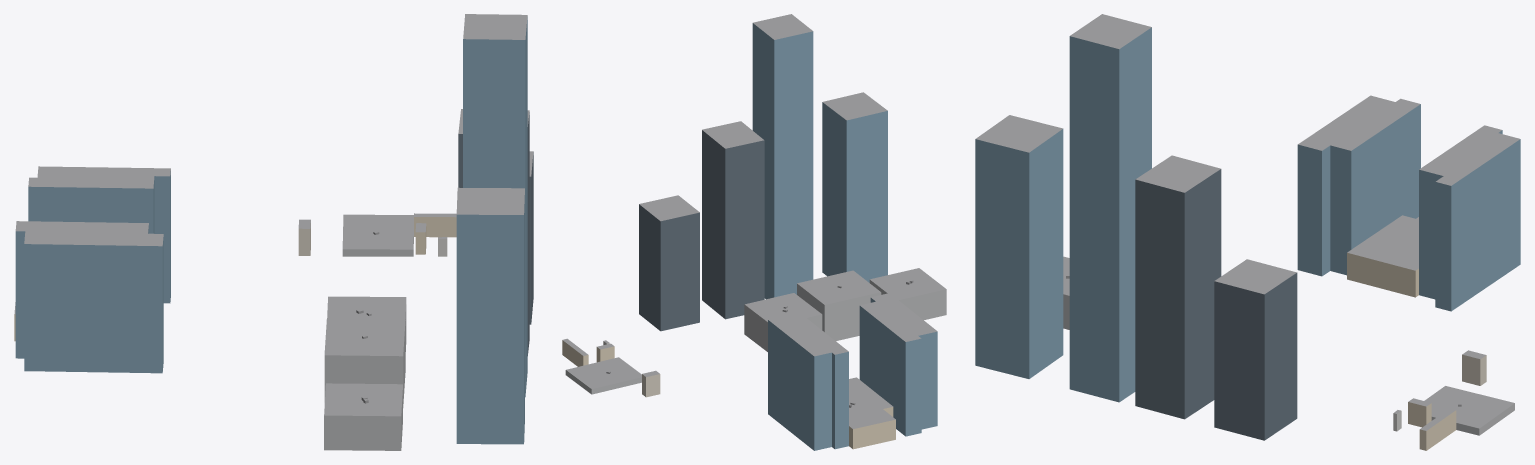
File: building_-2_-6.glb
3 renders of one model, left to right at view 1: azimuth 30°, elevation 25°; view 2: azimuth 150°, elevation 25°; view 3: azimuth 270°, elevation 25°, orthographic. The views are drawn at different scales.
Parts seen in each view (by area): view 1: glass_blue, roof, industrial, glass_dark, sandstone; view 2: glass_blue, glass_dark, roof, industrial, sandstone, concrete_warm; view 3: glass_blue, glass_dark, roof, sandstone, industrial, concrete_warm.
Boxes of the visible parts, left/top/right/bottom form: glass_blue: left=15, top=16, right=527, bottom=444; roof: left=14, top=14, right=533, bottom=416; industrial: left=324, top=237, right=413, bottom=450; glass_dark: left=458, top=112, right=533, bottom=355; sandstone: left=14, top=217, right=456, bottom=341; glass_blue: left=752, top=23, right=937, bottom=450; glass_dark: left=639, top=130, right=764, bottom=331; roof: left=563, top=14, right=946, bottom=428; industrial: left=565, top=280, right=946, bottom=394; sandstone: left=562, top=340, right=895, bottom=449; concrete_warm: left=642, top=374, right=660, bottom=397; glass_blue: left=975, top=27, right=1520, bottom=402; glass_dark: left=1135, top=169, right=1297, bottom=440; roof: left=976, top=14, right=1519, bottom=430; sandstone: left=1347, top=252, right=1456, bottom=450; industrial: left=1063, top=294, right=1514, bottom=435; concrete_warm: left=1462, top=354, right=1486, bottom=385.
Bounding box in the file's own units: 276 × 198 × 277.
